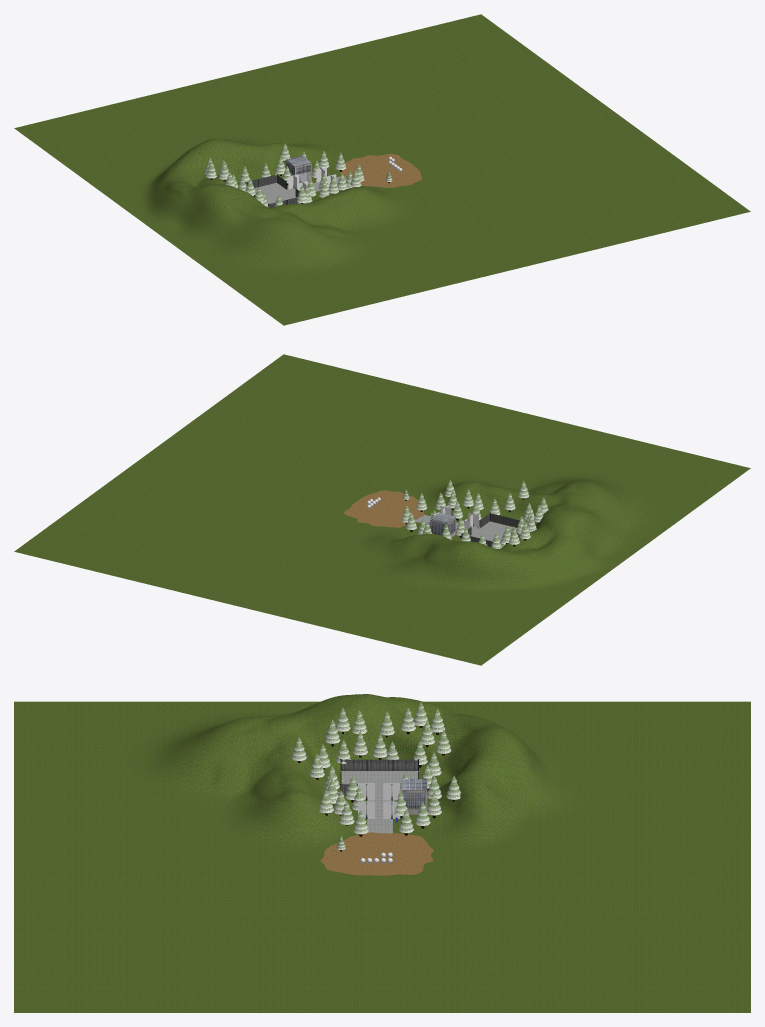
The picture shows the model from 3 angles, top to bottom: view 1: azimuth 30°, elevation 25°; view 2: azimuth 150°, elevation 25°; view 3: azimuth 270°, elevation 25°; orthographic projection. The views are drawn at different scales.
Visible parts, largest first — view 1: Plane, Circle, Plane.012; view 2: Plane, Circle, Plane.012; view 3: Plane, Circle, Plane.012, Plane.001, Cube.
Boxes of the visible parts, x1=… form: Plane: x1=14, y1=14, x2=750, y2=325; Circle: x1=338, y1=154, x2=421, y2=187; Plane.012: x1=254, y1=176, x2=346, y2=203; Plane: x1=14, y1=354, x2=750, y2=665; Circle: x1=344, y1=490, x2=424, y2=527; Plane.012: x1=415, y1=514, x2=516, y2=541; Plane: x1=14, y1=694, x2=750, y2=1012; Circle: x1=320, y1=832, x2=433, y2=875; Plane.012: x1=341, y1=771, x2=418, y2=833; Plane.001: x1=341, y1=759, x2=418, y2=795; Cube: x1=401, y1=779, x2=427, y2=814.
Size of the model in its own units: 3491 by 461 by 3491.
